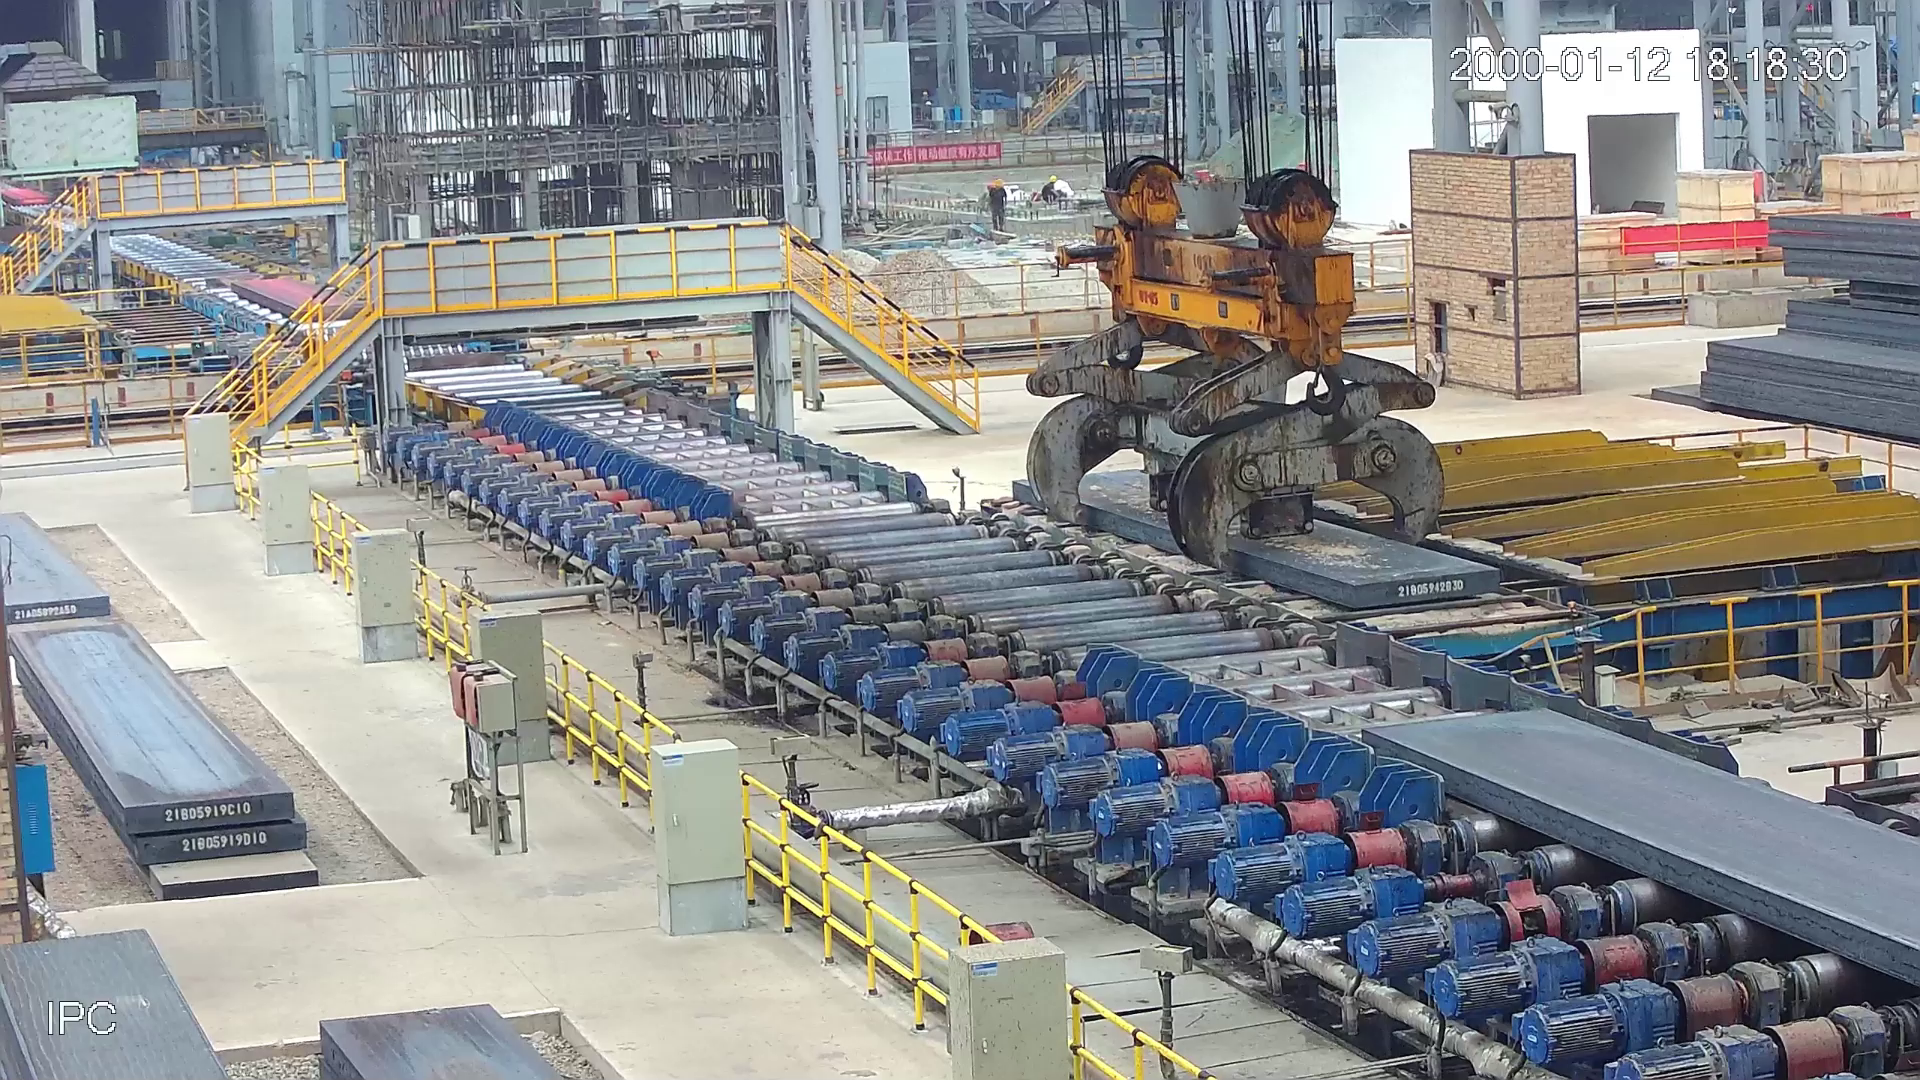craneandslab: (982, 141, 1506, 615)
slab: (1353, 699, 1920, 992), (231, 273, 375, 323)
